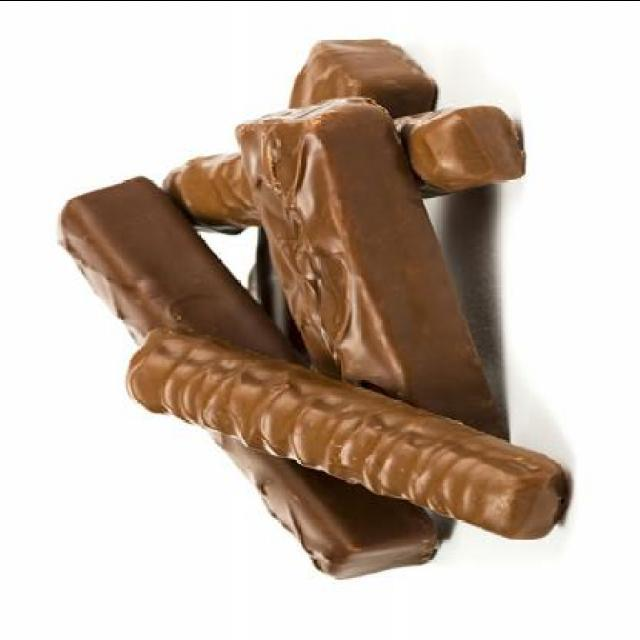Chocolate bar packaged: (56, 174, 438, 580), (232, 94, 510, 523), (124, 324, 580, 541), (157, 100, 526, 234)
